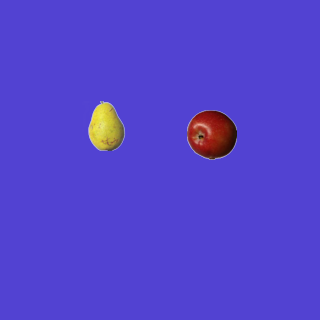Apple Braeburn: (186, 109, 236, 159)
Pear Monster: (81, 100, 131, 150)
